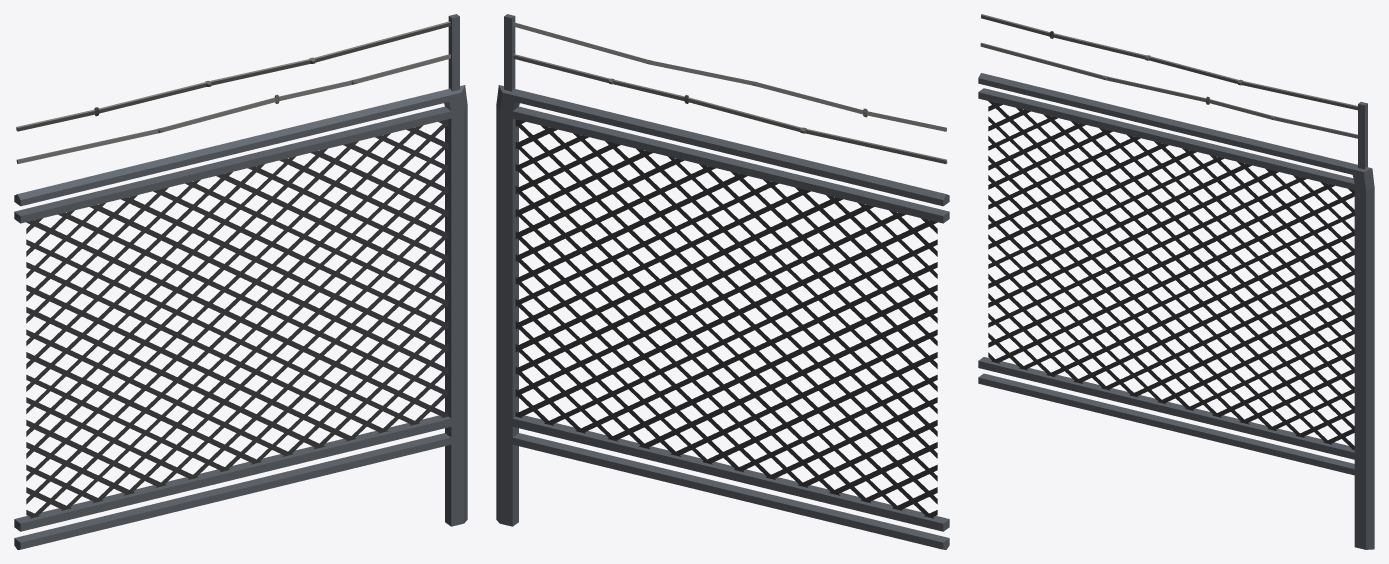
Rendered from SM_Prop_Fence_03.glb.
The picture shows the model from 3 angles, left to right: view 1: azimuth 30°, elevation 25°; view 2: azimuth 150°, elevation 25°; view 3: azimuth 330°, elevation 25°; orthographic projection. The views are drawn at different scales.
Visible parts, largest first — view 1: SM_Prop_Fence_03; view 2: SM_Prop_Fence_03; view 3: SM_Prop_Fence_03.
Boxes of the visible parts, x1,y1,x2,y2 form: SM_Prop_Fence_03: (14, 14, 467, 549); SM_Prop_Fence_03: (496, 14, 949, 549); SM_Prop_Fence_03: (978, 14, 1374, 549).
Size of the model in its own units: 2.96 by 3.19 by 0.0724.
Materials: 2 (2 with a texture image).
